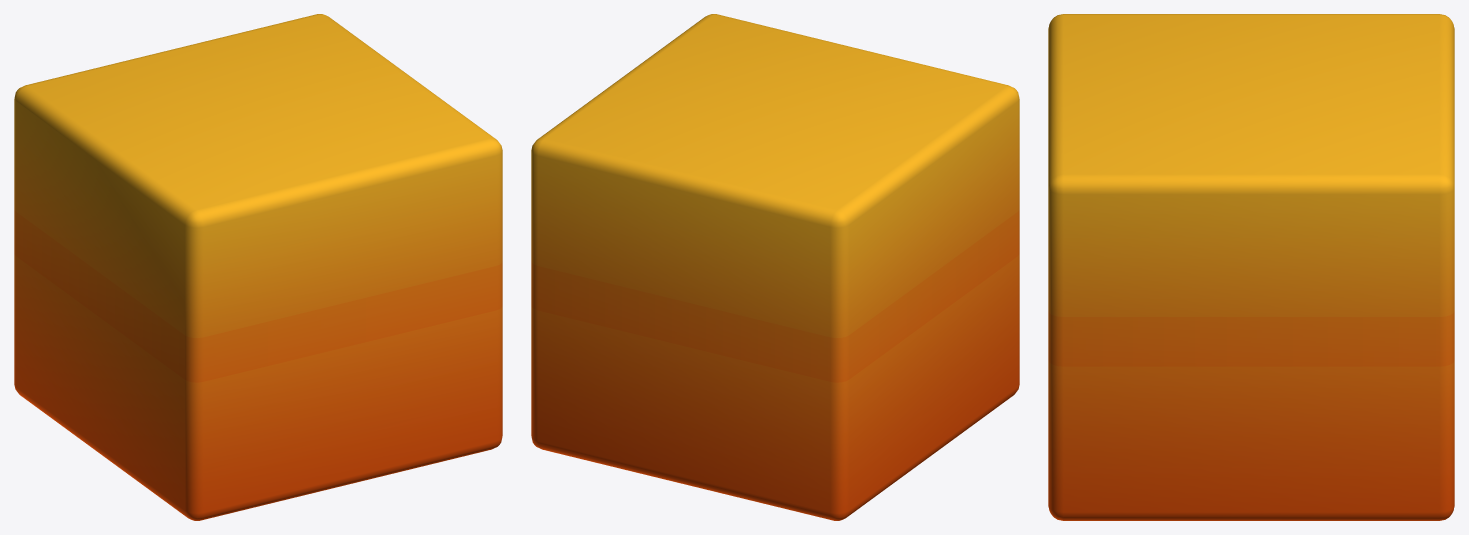
The picture shows the model from 3 angles, left to right: view 1: azimuth 30°, elevation 25°; view 2: azimuth 150°, elevation 25°; view 3: azimuth 270°, elevation 25°; orthographic projection. The views are drawn at different scales.
Parts seen in each view (by area): view 1: Cube_17; view 2: Cube_17; view 3: Cube_17.
Boxes of the visible parts, x1=… form: Cube_17: x1=14, y1=14, x2=502, y2=520; Cube_17: x1=531, y1=14, x2=1019, y2=520; Cube_17: x1=1048, y1=14, x2=1454, y2=520.
Bounding box in the file's own units: 2 × 1.88 × 2.
